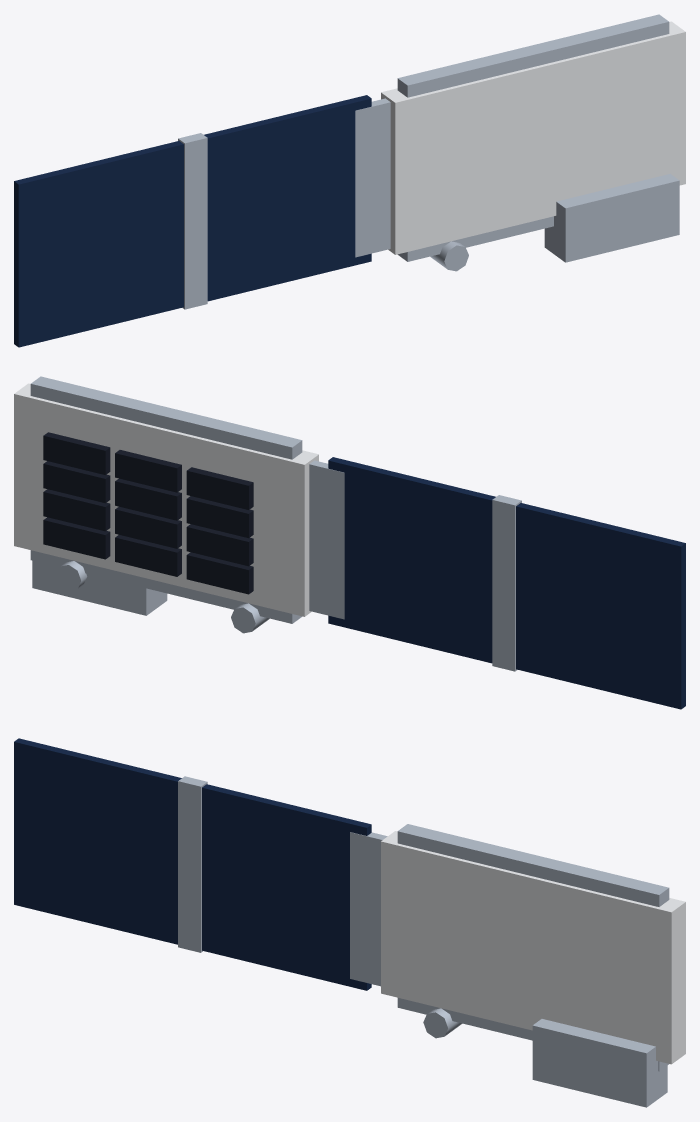
File: starlink-gen1.glb
3 renders of one model, top to bottom at view 1: azimuth 30°, elevation 25°; view 2: azimuth 150°, elevation 25°; view 3: azimuth 330°, elevation 25°, orthographic.
Visible parts, largest first — view 1: wing-port-panel, bus, antenna, bus-rail-top, wing-port-hinge, wing-port-frame, bus-rail-bottom, thruster; view 2: wing-port-panel, bus, bus-rail-top, wing-port-hinge, wing-port-frame, antenna, bus-rail-bottom, array-3-2, array-3-0, array-3-1, array-2-2, array-0-2 (+8 smaller); view 3: wing-port-panel, bus, antenna, bus-rail-top, wing-port-hinge, wing-port-frame, bus-rail-bottom, thruster.
Part boxes in pixels (bbox=[...]): wing-port-panel: bbox=[14, 95, 371, 347]; bus: bbox=[381, 21, 685, 254]; antenna: bbox=[544, 173, 679, 262]; bus-rail-top: bbox=[397, 14, 669, 97]; wing-port-hinge: bbox=[355, 98, 390, 257]; wing-port-frame: bbox=[178, 133, 207, 309]; bus-rail-bottom: bbox=[397, 216, 553, 261]; thruster: bbox=[430, 241, 468, 271]; wing-port-panel: bbox=[328, 457, 685, 709]; bus: bbox=[14, 383, 318, 616]; bus-rail-top: bbox=[30, 376, 302, 459]; wing-port-hinge: bbox=[309, 460, 344, 619]; wing-port-frame: bbox=[492, 495, 521, 671]; antenna: bbox=[32, 560, 167, 615]; bus-rail-bottom: bbox=[30, 550, 302, 623]; array-3-2: bbox=[43, 432, 110, 474]; array-3-0: bbox=[186, 467, 253, 509]; array-3-1: bbox=[115, 450, 181, 492]; array-2-2: bbox=[43, 461, 110, 503]; array-0-2: bbox=[43, 517, 110, 559]; wing-port-panel: bbox=[14, 738, 371, 990]; bus: bbox=[381, 831, 685, 1064]; antenna: bbox=[532, 1019, 667, 1107]; bus-rail-top: bbox=[397, 824, 669, 906]; wing-port-hinge: bbox=[350, 832, 387, 986]; wing-port-frame: bbox=[178, 776, 207, 952]; bus-rail-bottom: bbox=[397, 998, 668, 1071]; thruster: bbox=[423, 1008, 462, 1038].
Size of the model in its own units: 6.38 by 1.88 by 0.615.
